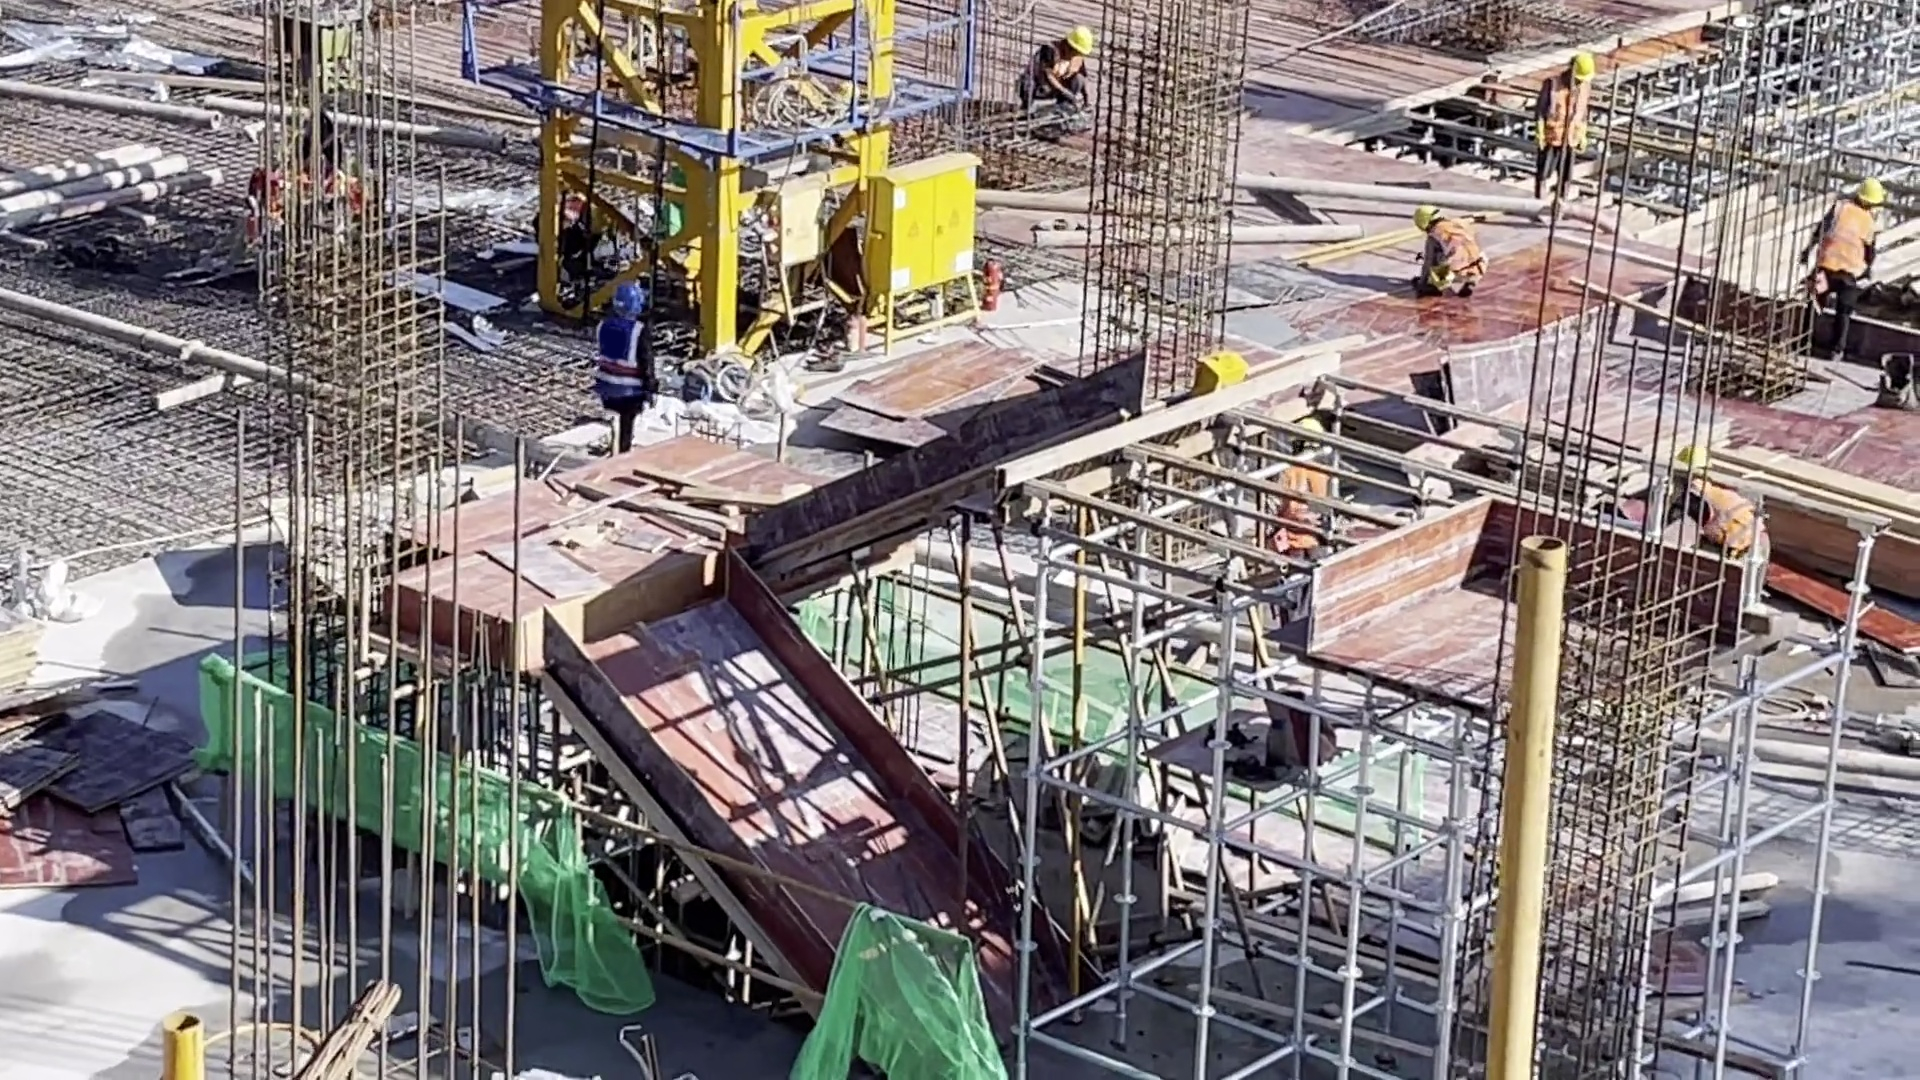board: (1, 701, 198, 906)
ebox: (855, 151, 987, 348), (751, 180, 828, 342), (1185, 347, 1248, 406)
helmet: (1563, 47, 1602, 84), (608, 279, 646, 311), (1415, 207, 1448, 243), (1677, 443, 1713, 473), (1063, 26, 1091, 60), (1848, 179, 1887, 202)
person: (1795, 169, 1895, 339), (1662, 447, 1779, 571), (585, 282, 662, 462), (1272, 420, 1345, 562), (1536, 49, 1606, 197), (1026, 29, 1103, 130), (1406, 201, 1482, 300)
vest: (1815, 192, 1877, 289), (593, 327, 657, 417), (1692, 486, 1768, 551), (1538, 79, 1596, 161), (1026, 52, 1086, 107), (1437, 221, 1485, 286)
wood: (1704, 434, 1910, 522)
